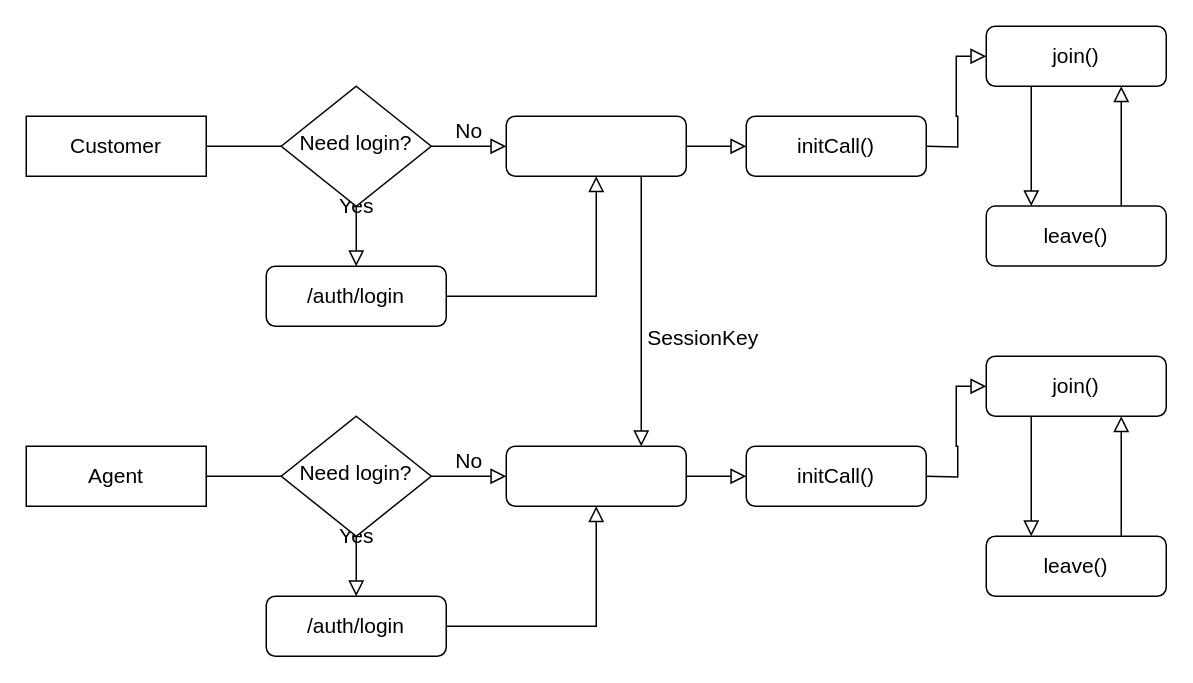
The diagram is 1193 pixels wide and 683 high, and some of its shapes have lost their labels. The shapes that lost their labels are listed below. From the top down, each one's centre as x and y in pixels, then its label:
At (595,145): "/call/init".
At (595,475): "/call/join".
